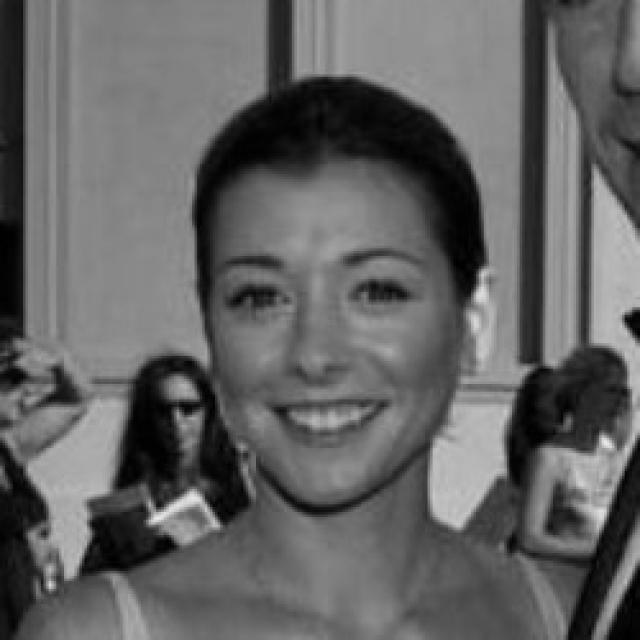real: (198, 89, 471, 507), (226, 270, 425, 320)
